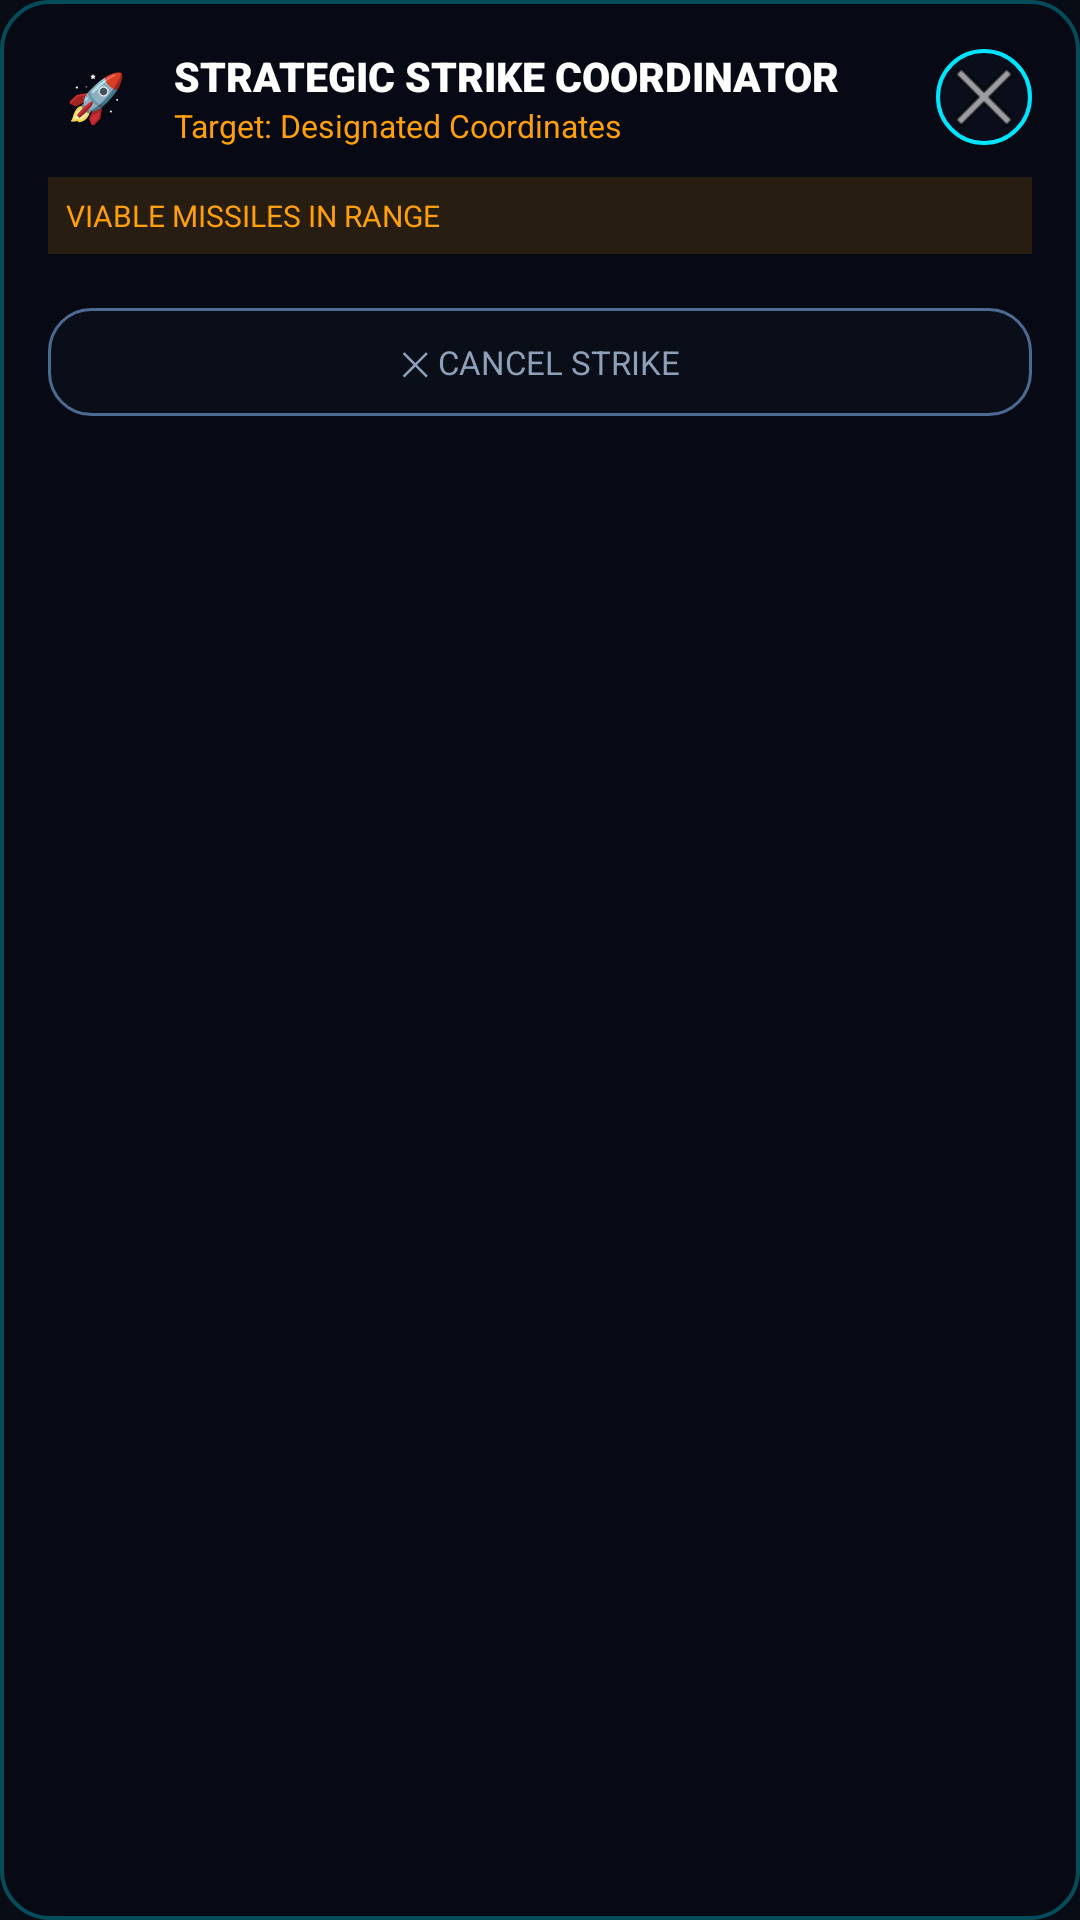

Icons on this 1080px×1920px Android screen, each with its box as (x1, y1, x2, y2):
close clear cancel: (936, 49, 1032, 145)
